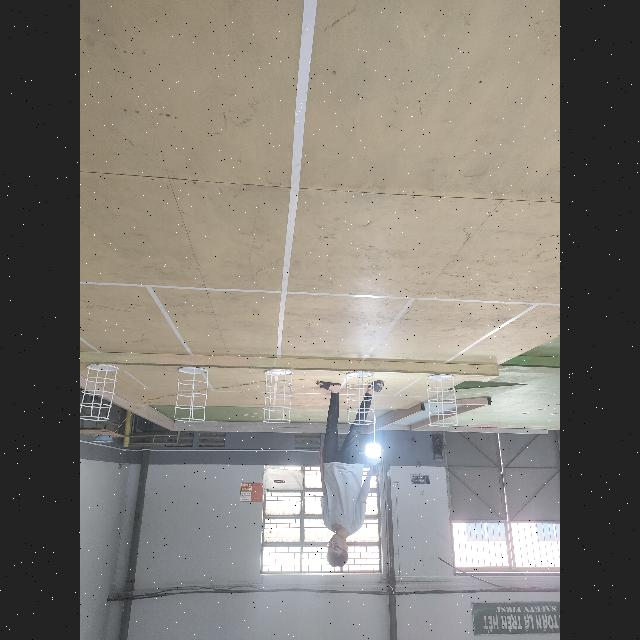S: (80, 363, 120, 422), (174, 368, 210, 422), (345, 371, 377, 425), (426, 374, 459, 426), (263, 368, 293, 424)
